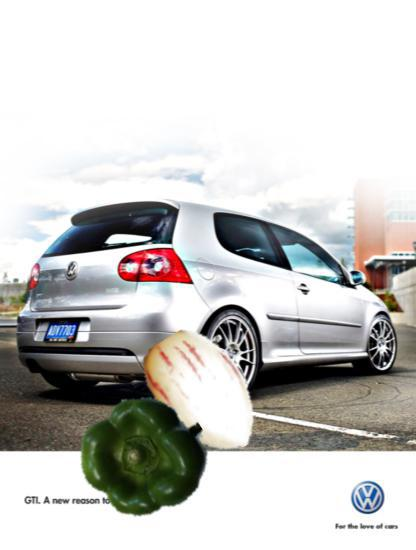Pepino: (136, 328, 269, 461)
Pepper: (80, 393, 208, 521)
